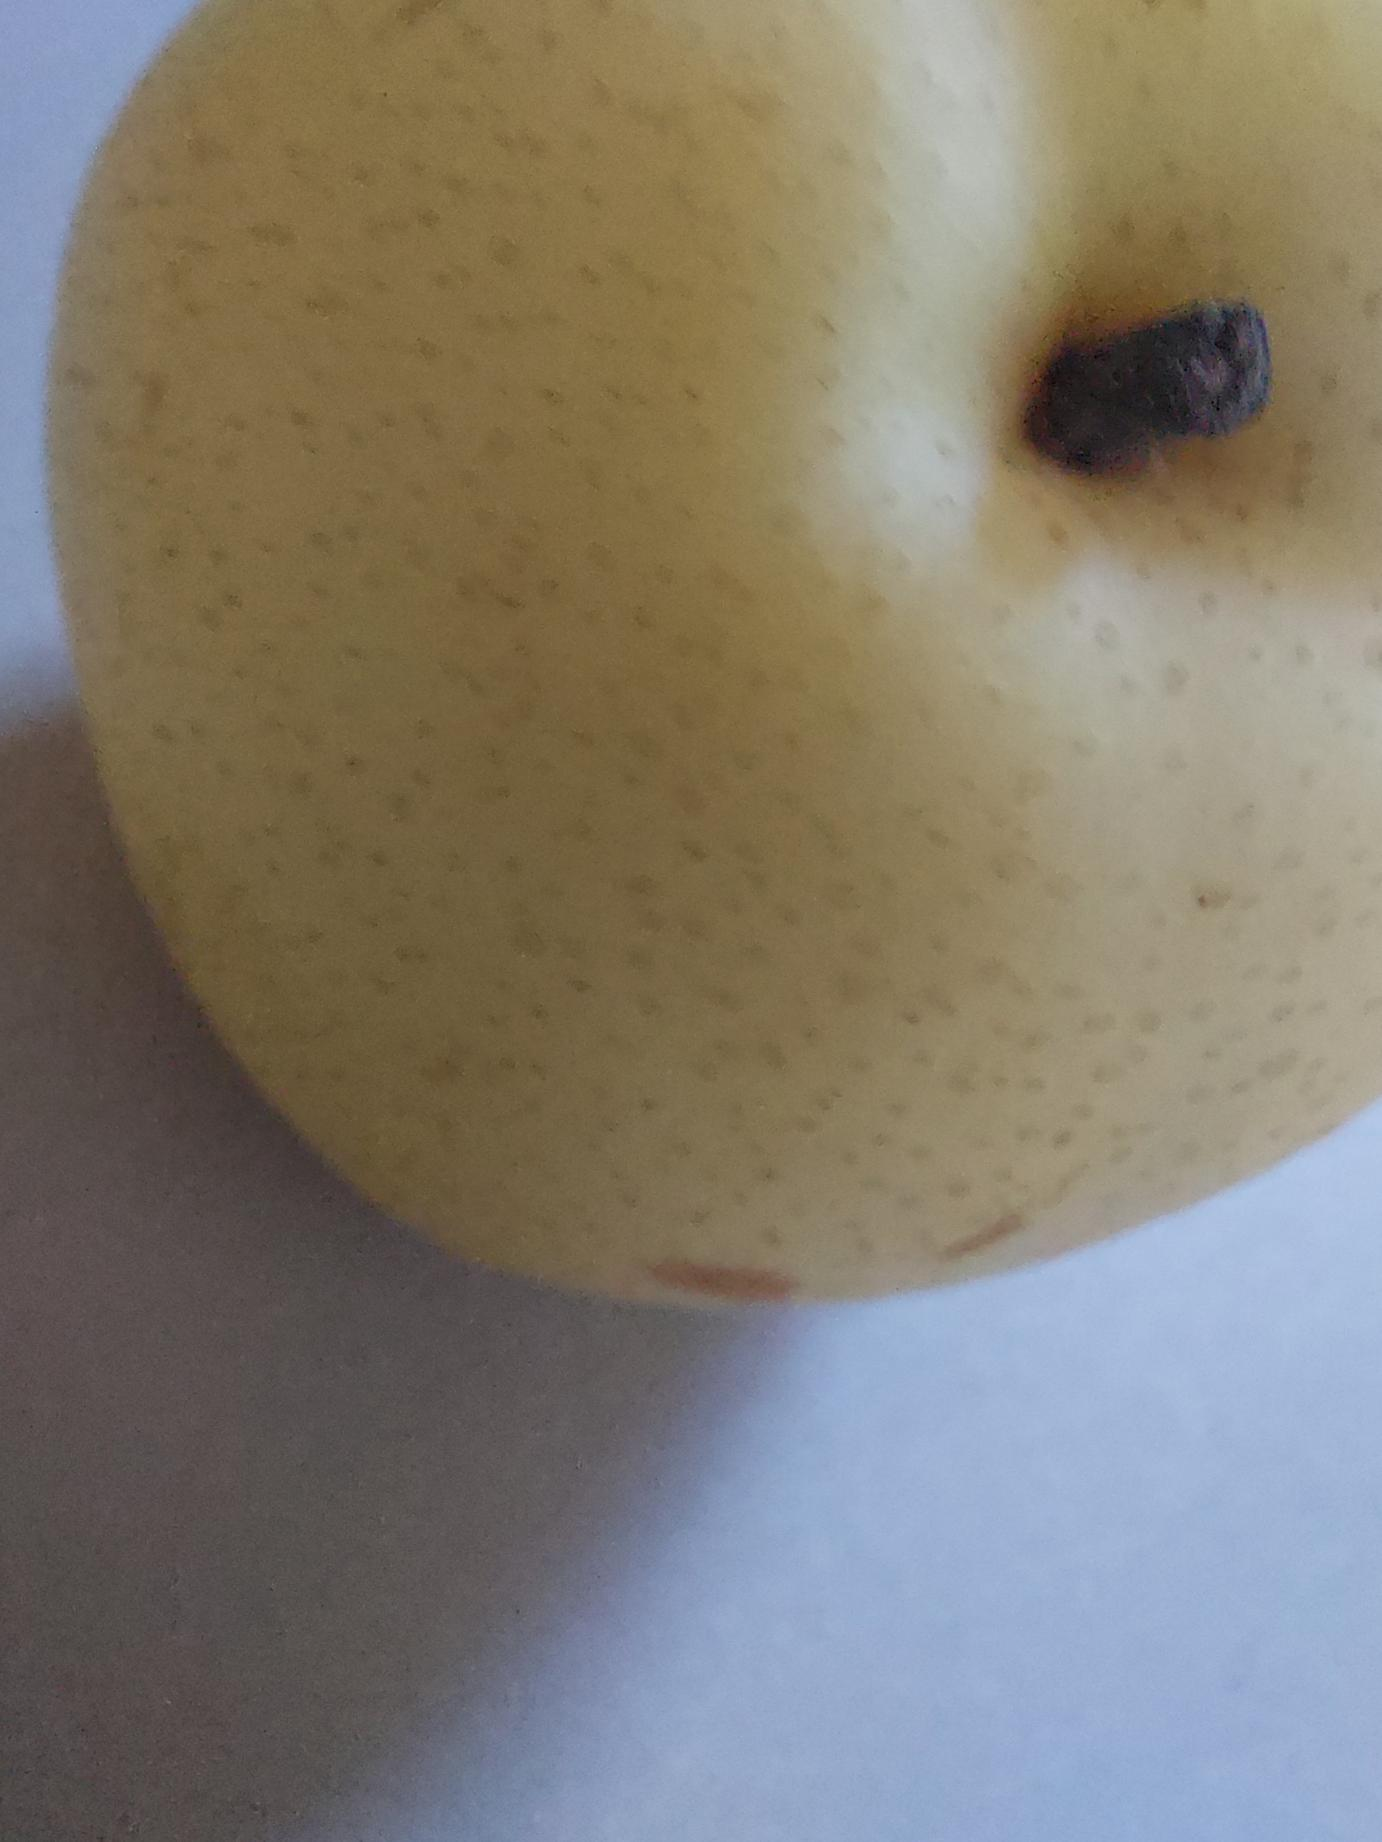Good Pear: (30, 0, 1382, 1319)
